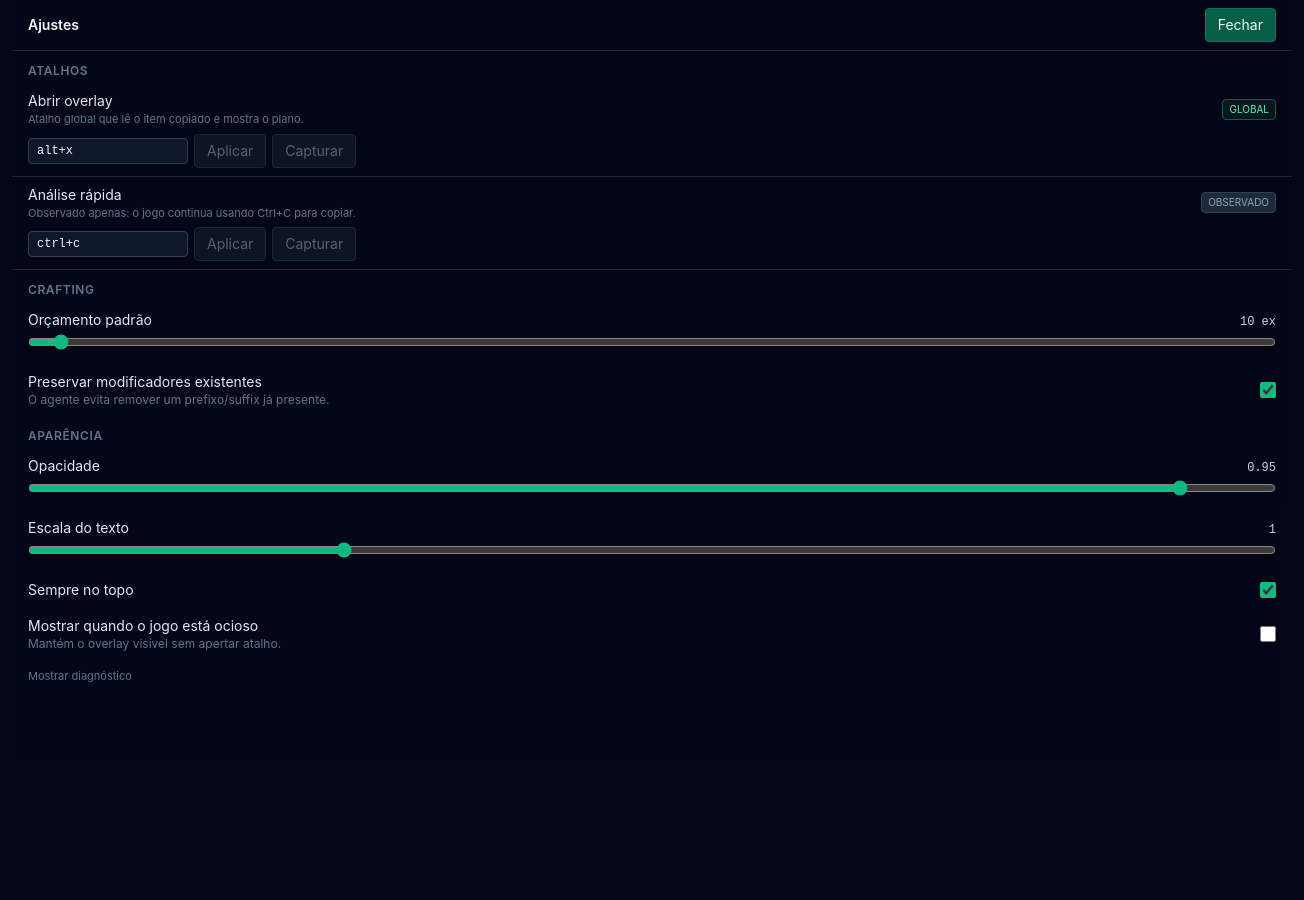
Test case: SettingsModal › nao envia patch quando o atalho digitado e invalido
Replace the text in the field with placeholder "Alt+E" below "Abrir overlay" with "E" at (108,150), box [28,138,188,164]
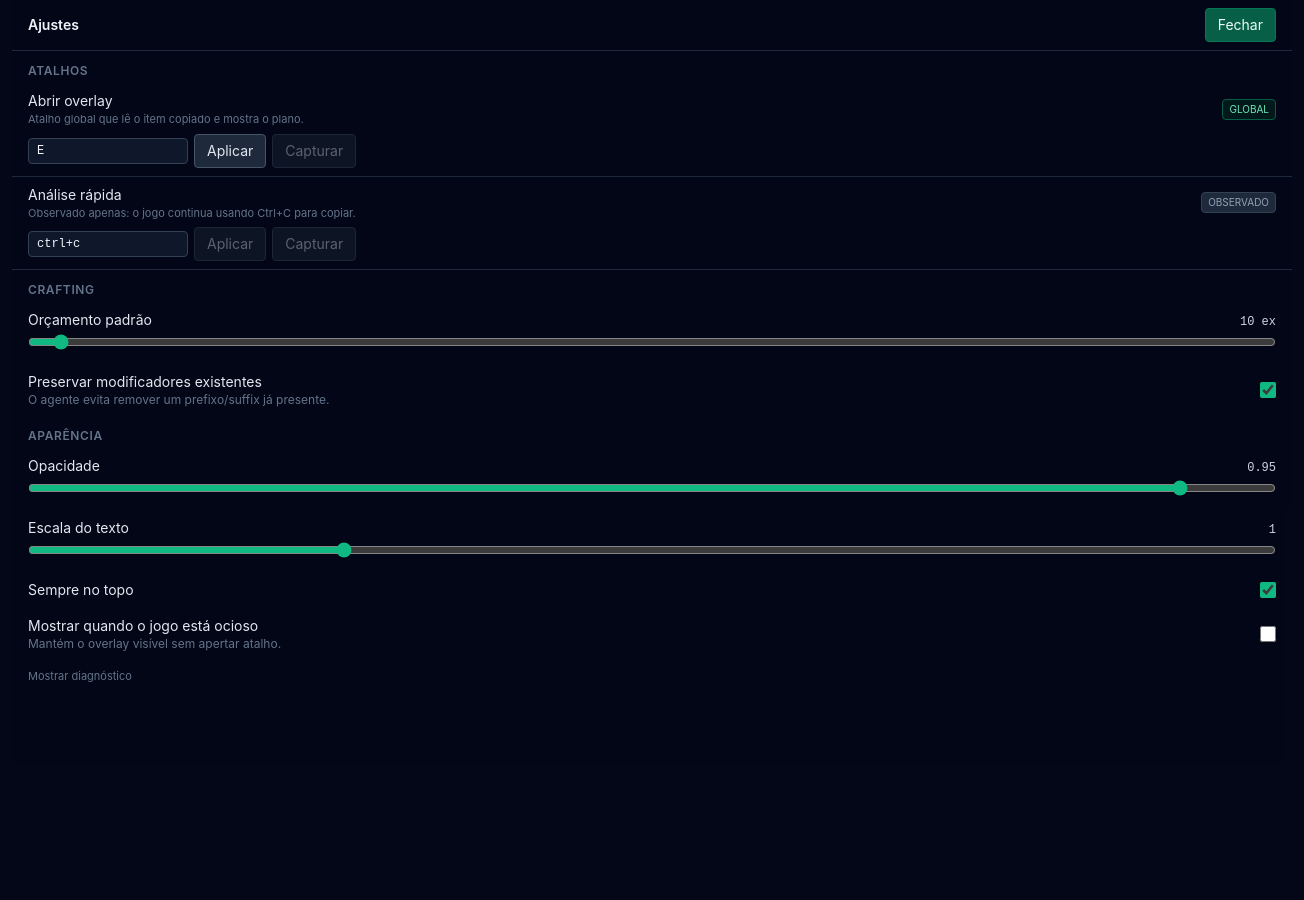
Click the button "Aplicar" below "Abrir overlay" at (230,150), box [194,134,266,168]
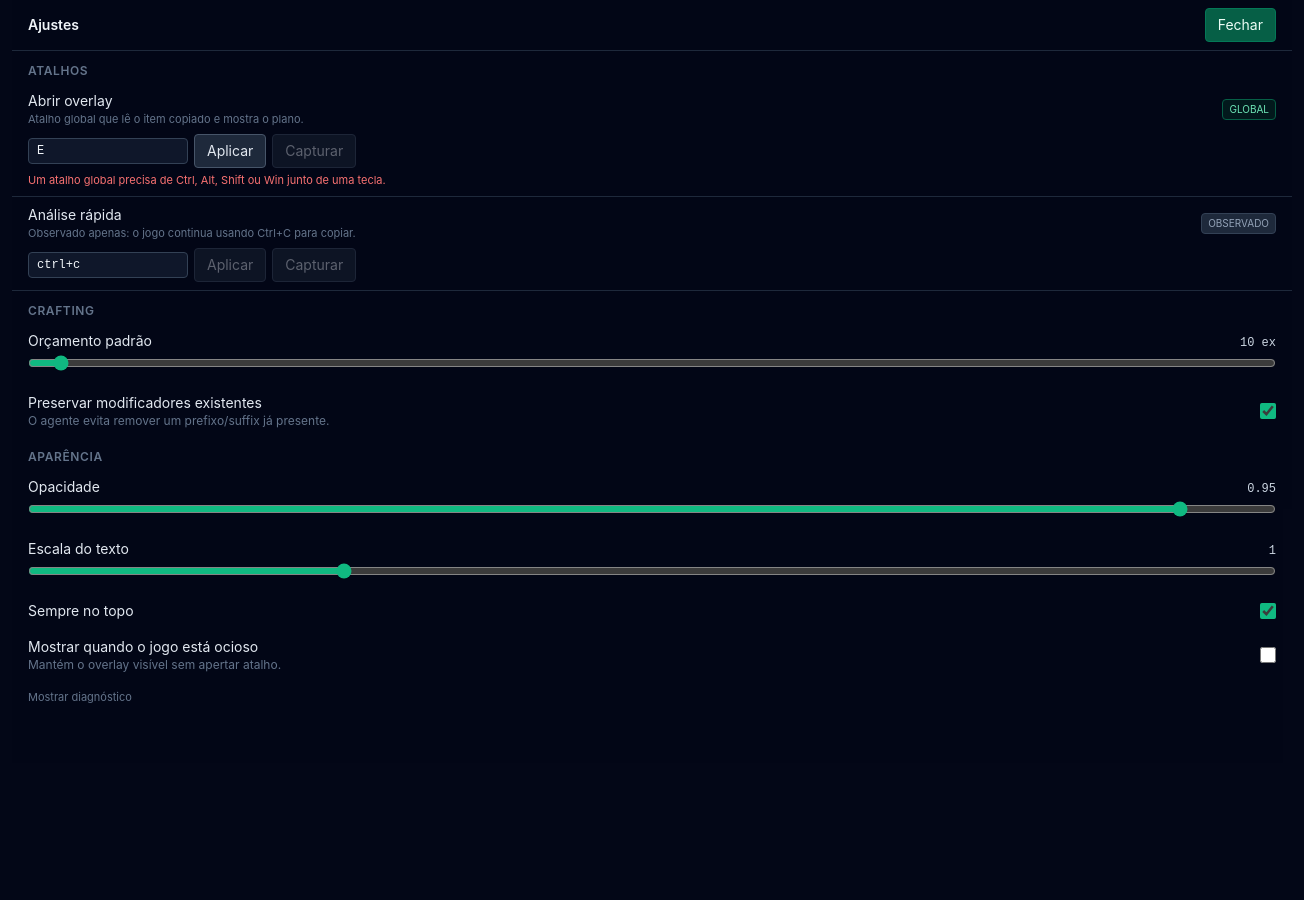
Expected: the text "precisa de Ctrl, Alt, Shift ou Win" is shown, [28,172,386,186]
